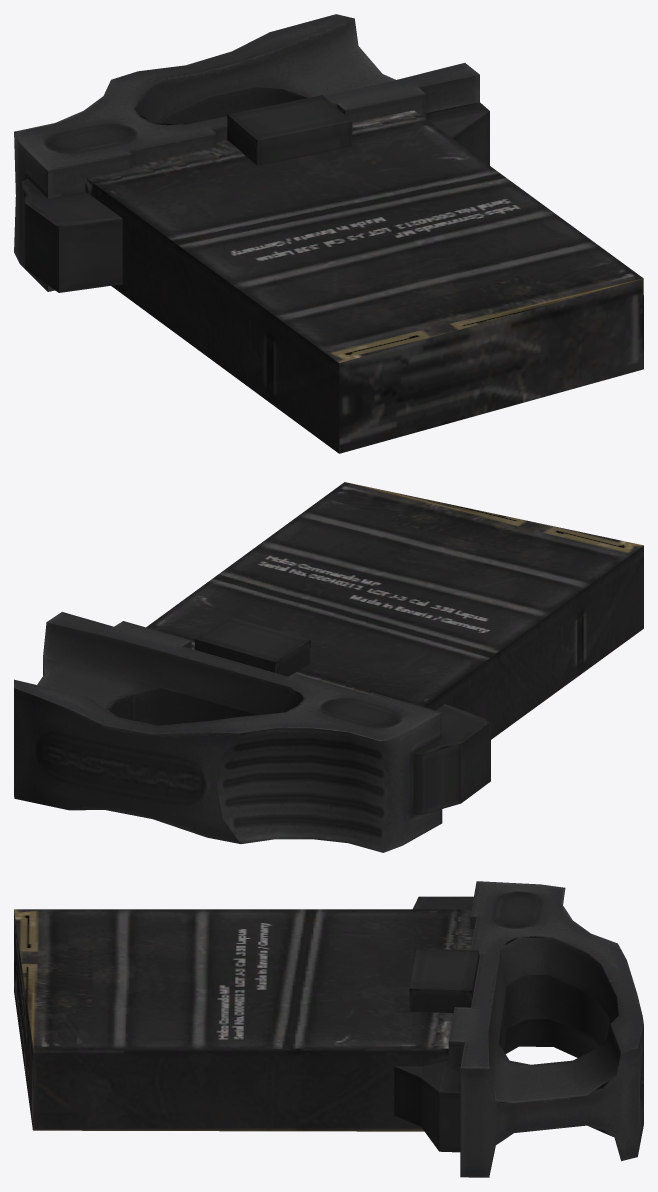
File: t6_attach_fastmag_ballista_world_LOD0.obj
3 renders of one model, top to bottom at view 1: azimuth 30°, elevation 25°; view 2: azimuth 150°, elevation 25°; view 3: azimuth 270°, elevation 25°, orthographic. The views are drawn at different scales.
Parts seen in each view (by area): view 1: mtl_t6_wpn_sniper_ballista_camo1, mtl_t6_attach_sniper_fastmag; view 2: mtl_t6_attach_sniper_fastmag, mtl_t6_wpn_sniper_ballista_camo1; view 3: mtl_t6_wpn_sniper_ballista_camo1, mtl_t6_attach_sniper_fastmag.
Boxes of the visible parts, x1,y1,x2,y2 form: mtl_t6_wpn_sniper_ballista_camo1: (85,110,643,453); mtl_t6_attach_sniper_fastmag: (14,14,489,292); mtl_t6_attach_sniper_fastmag: (14,612,490,852); mtl_t6_wpn_sniper_ballista_camo1: (146,482,643,739); mtl_t6_wpn_sniper_ballista_camo1: (14,909,474,1131); mtl_t6_attach_sniper_fastmag: (394,881,643,1177).
Bounding box in the file's own units: 13.89 × 4.29 × 18.78.
